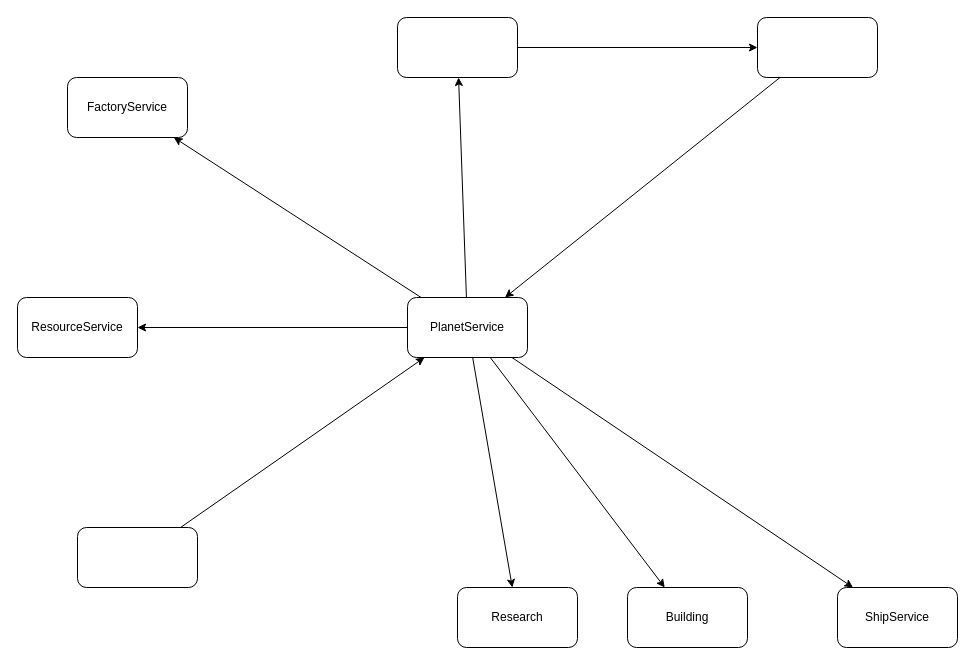
Image size: 975x665. Some labels were removed from this diagram. Each missing label, with the centre of its shape:
Api: the point at 137,557
FightService: the point at 817,47
ShipNavigator: the point at 457,47
